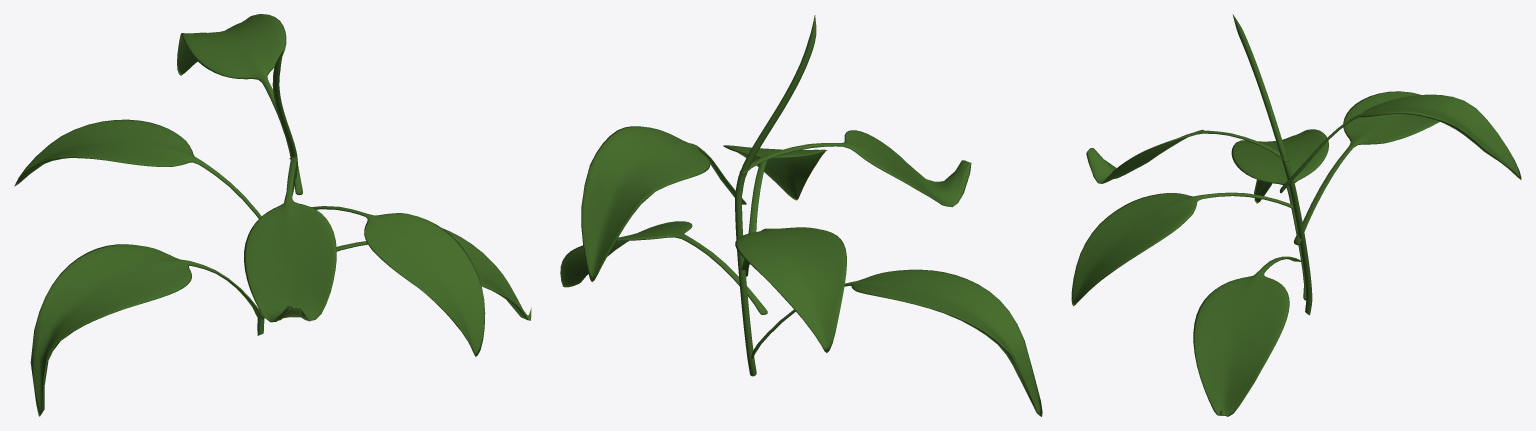
File: Plant1_Small.fbx
3 renders of one model, left to right at view 1: azimuth 30°, elevation 25°; view 2: azimuth 150°, elevation 25°; view 3: azimuth 270°, elevation 25°, orthographic. The views are drawn at different scales.
Parts seen in each view (by area): view 1: Leaf, Stem; view 2: Leaf, Stem; view 3: Leaf, Stem.
Part boxes in pixels (x1,y1,x2,y2): Leaf: (14,14,531,416); Stem: (257,50,297,335); Leaf: (560,126,1042,416); Stem: (735,15,816,376); Leaf: (1071,91,1521,416); Stem: (1232,14,1312,315).
Size of the model in its own units: 986 by 644 by 889.
